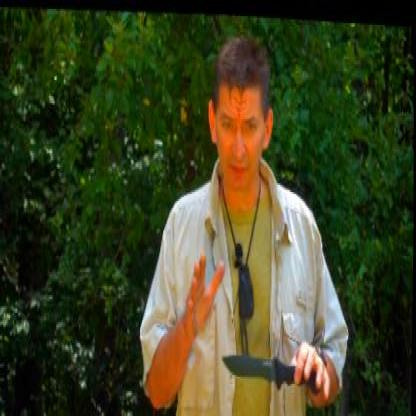knife: (218, 328, 332, 401)
